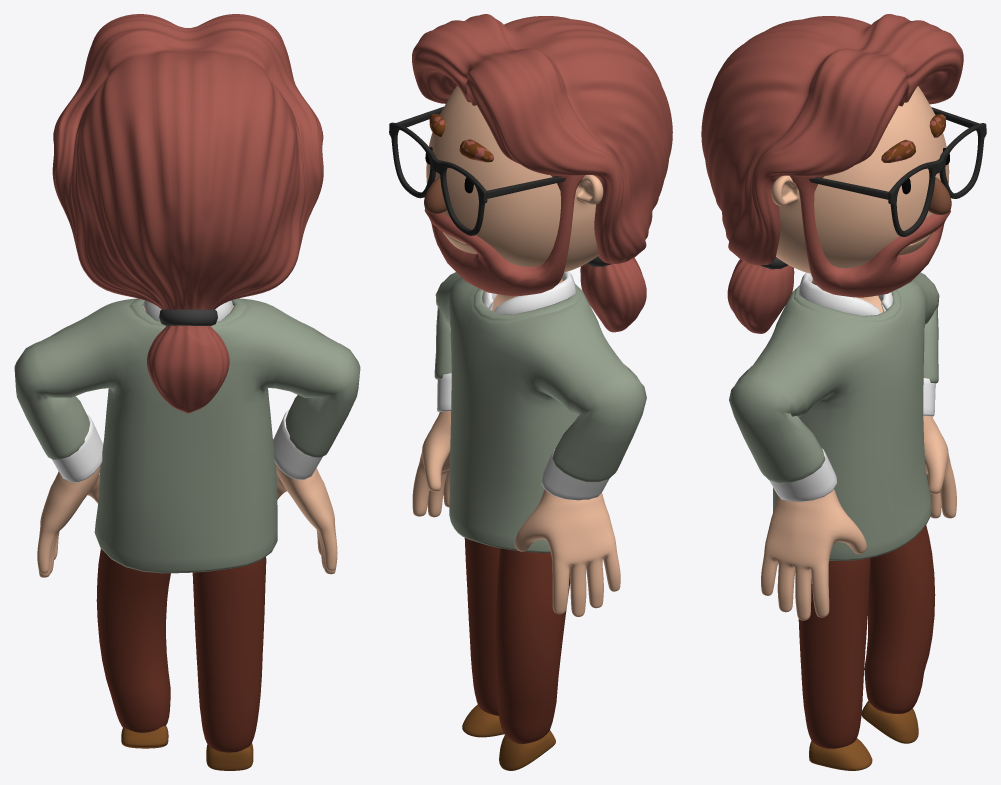
File: videaste.gltf
3 renders of one model, left to right at view 1: azimuth 30°, elevation 25°; view 2: azimuth 150°, elevation 25°; view 3: azimuth 270°, elevation 25°, orthographic. The views are drawn at different scales.
Parts seen in each view (by area): view 1: Hair_4, Jumper, Cube.016, Cube.015, body.004, Cube.017, Cube.018; view 2: Jumper, Hair_4, body.004, Cube.015, Beard_4, Cube.016, eyeglass_4, Cube.018, Cube.017, Eyebrow.001, nose.004; view 3: Jumper, Hair_4, body.004, Cube.015, Cube.016, Beard_4, eyeglass_4, Cube.017, Cube.018, Eyebrow.001, nose.004.
Part boxes in pixels (x1,y1,x2,y2): Hair_4: (52, 14, 323, 413); Jumper: (14, 298, 360, 573); Cube.016: (192, 557, 266, 752); Cube.015: (96, 548, 170, 732); body.004: (37, 305, 337, 577); Cube.017: (206, 743, 253, 770); Cube.018: (121, 725, 168, 748); Jumper: (434, 271, 646, 552); Hair_4: (412, 14, 672, 332); body.004: (412, 85, 620, 616); Cube.015: (495, 548, 570, 744); Beard_4: (424, 175, 584, 296); Cube.016: (464, 538, 499, 715); eyeglass_4: (389, 106, 565, 235); Cube.018: (499, 730, 555, 770); Cube.017: (462, 704, 504, 737); Eyebrow.001: (429, 113, 493, 162); nose.004: (424, 176, 446, 213); Jumper: (729, 272, 939, 560); Hair_4: (701, 14, 963, 333); body.004: (761, 86, 956, 620); Cube.015: (864, 525, 935, 713); Cube.016: (798, 558, 870, 748); Beard_4: (790, 176, 950, 297); eyeglass_4: (809, 107, 986, 236); Cube.017: (809, 738, 872, 770); Cube.018: (861, 701, 918, 743); Eyebrow.001: (882, 114, 945, 162); nose.004: (928, 177, 951, 214).
Size of the model in its own units: 3.88 by 9.91 by 3.58.
